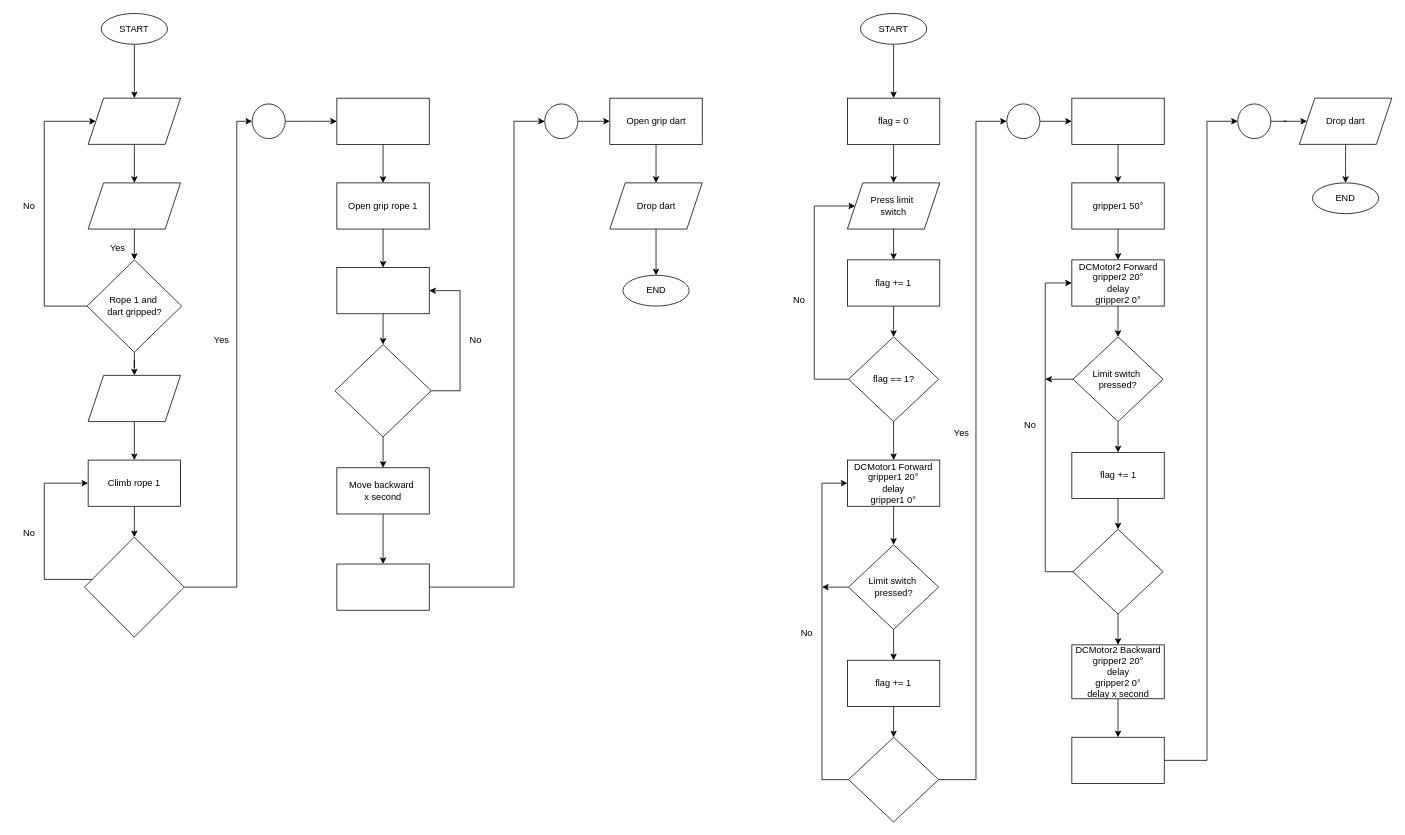
Image size: 1405x835. Some labels were removed from this diagram. The shapes that lost their labels are listed below. From the top down, each one's box as (x1, y1, x2, y2) in pixels, then its label:
(87, 97, 181, 144): put dart
(336, 97, 429, 144): Grip rope 2
(1071, 97, 1164, 144): DCMotor1 Stop gripper2 50° delay gripper2 0 °
(87, 182, 181, 229): on switch
(336, 267, 429, 314): Climb rope 2
(87, 375, 181, 422): Press limit switch 1 time
(334, 344, 431, 437): Limit switch pressed 3 times?
(84, 536, 184, 637): Limit switch pressed on pulley 3 times?
(336, 563, 429, 610): Stop
(1072, 529, 1163, 614): flag == 6?
(848, 737, 939, 822): flag == 3?
(1071, 737, 1164, 783): DCMotor2 Stop gripper2 0 °
